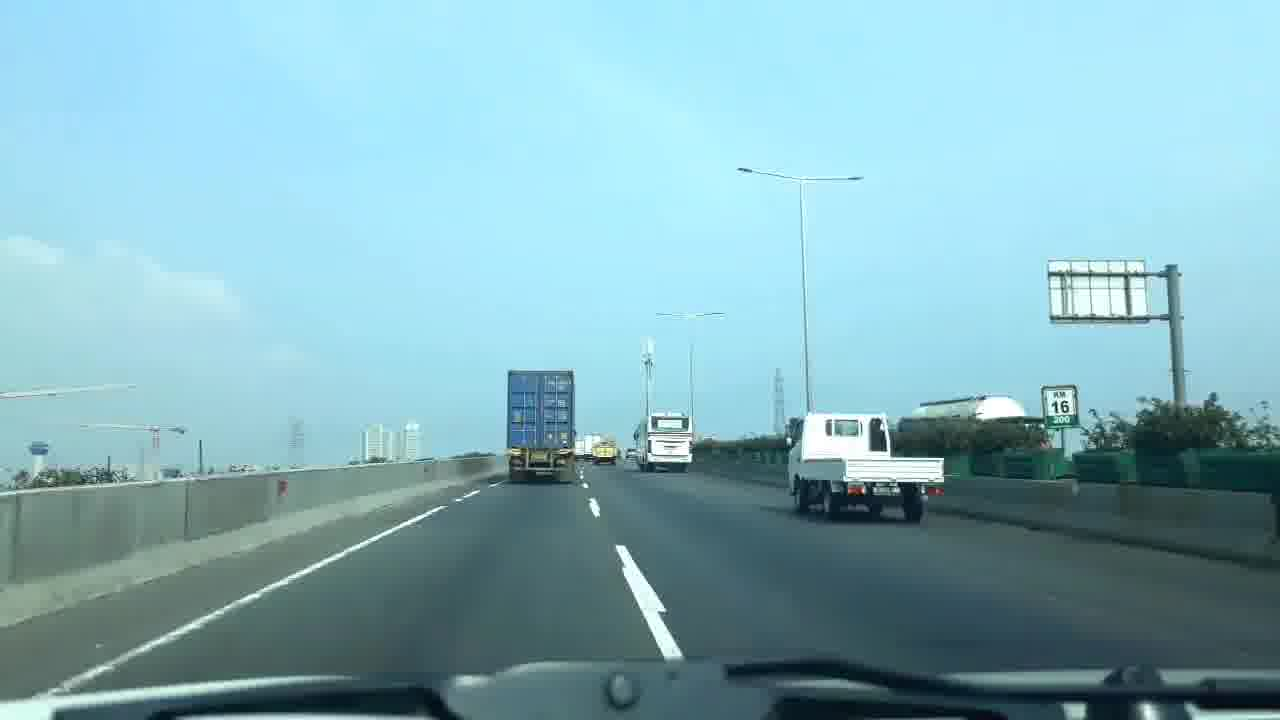plate_positive: (872, 486, 901, 497)
